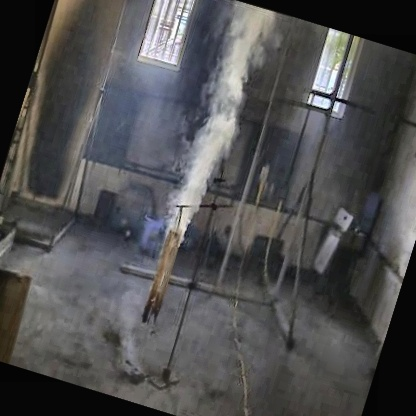smoke: (131, 0, 289, 271)
